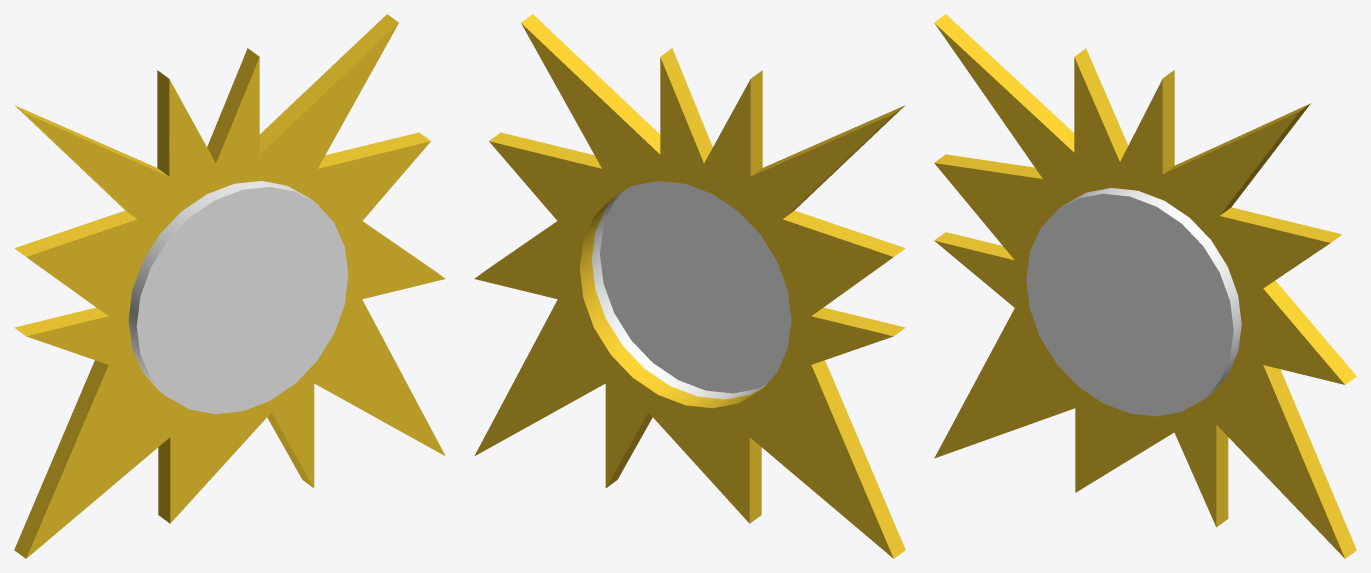
3 views of the same model, side by side, from view 1: azimuth 30°, elevation 25°; view 2: azimuth 150°, elevation 25°; view 3: azimuth 330°, elevation 25° (orthographic). The views are drawn at different scales.
Visible parts, largest first — view 1: Layer0_001; view 2: Layer0_001; view 3: Layer0_001.
Part boxes in pixels (x1=…): Layer0_001: x1=14, y1=14, x2=445, y2=558; Layer0_001: x1=474, y1=14, x2=905, y2=558; Layer0_001: x1=934, y1=14, x2=1356, y2=558.
Size of the model in its own units: 27.75 by 28.12 by 2.31.
